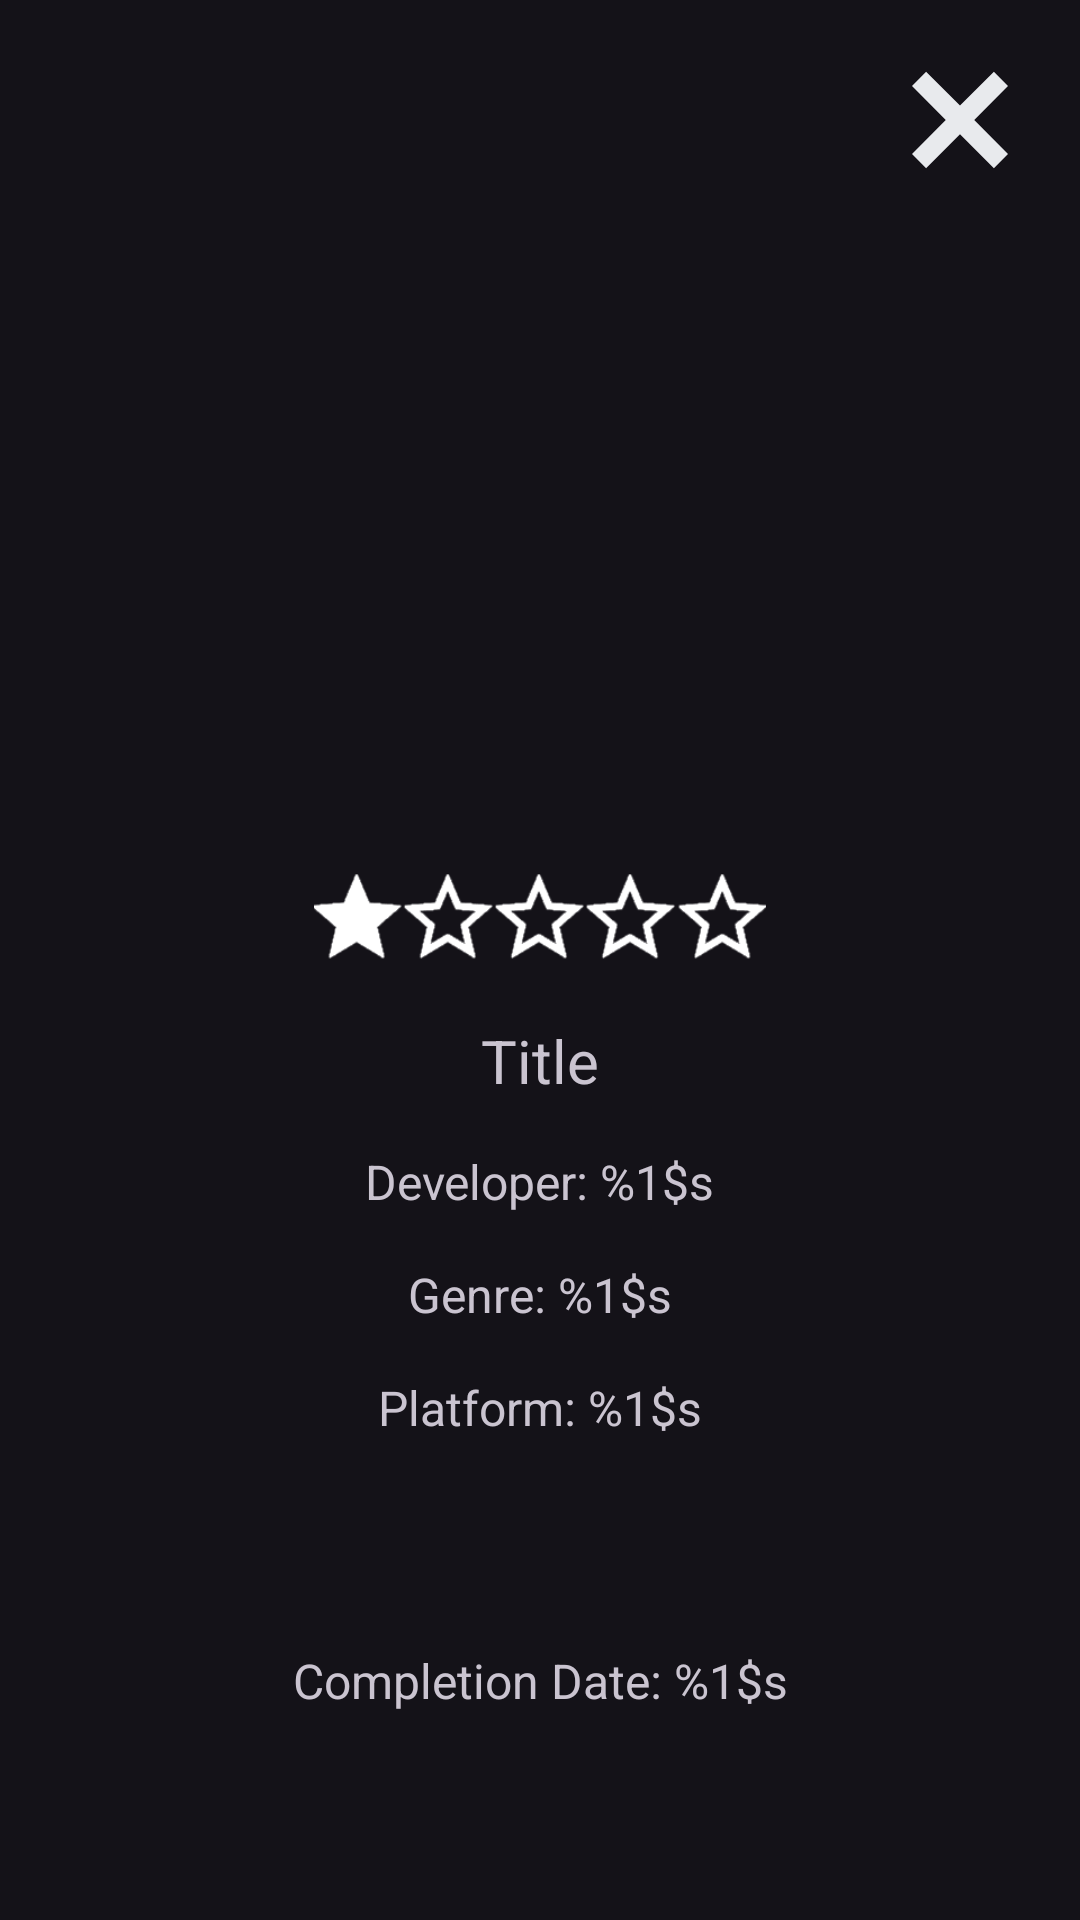

Icons on this 1080 × 1920 Android screen, each with the point to tap as (x,y):
close: (960,120)
